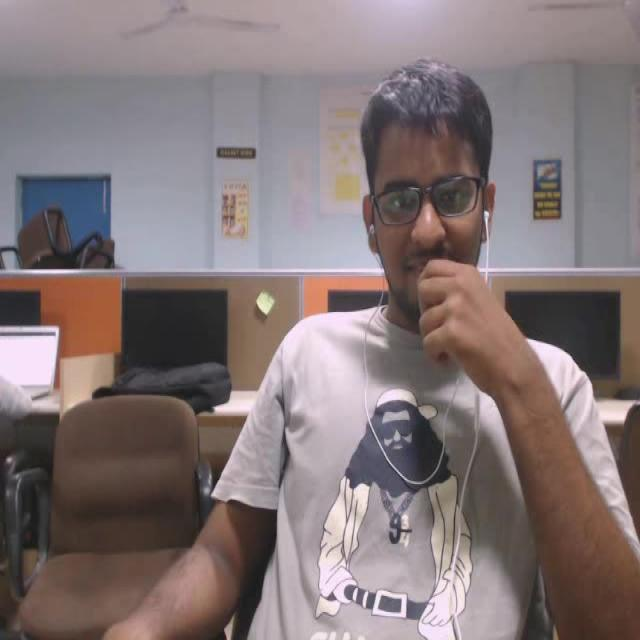Bored: (342, 17, 526, 384)
